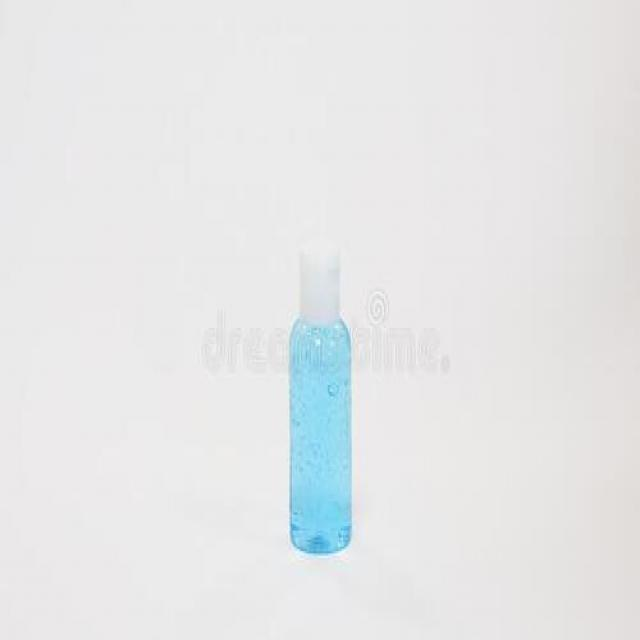sanitizer: (286, 235, 354, 558)
